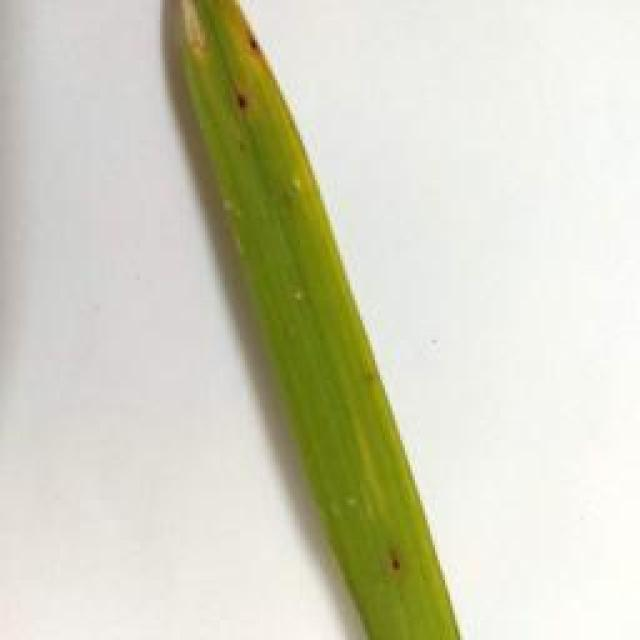Bacterial_Blight: (177, 0, 221, 64)
Brown_Spot: (379, 546, 410, 585), (225, 84, 256, 122), (250, 19, 268, 69)
